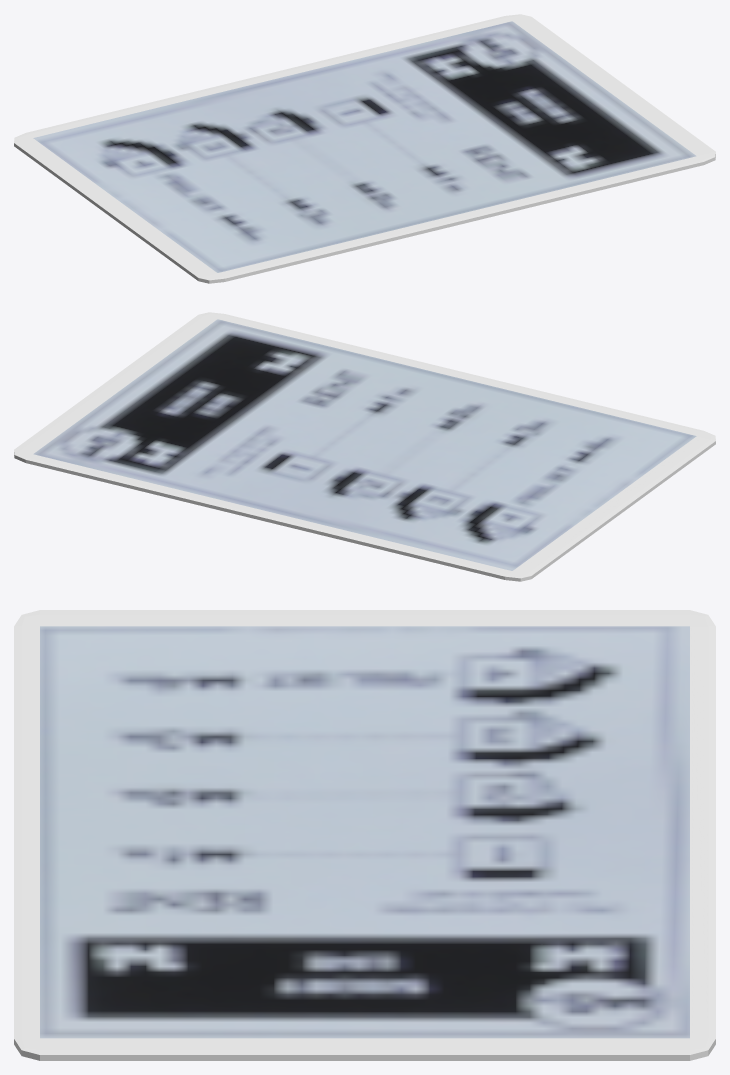
The model's file is shortline.glb.
The picture shows the model from 3 angles, top to bottom: view 1: azimuth 30°, elevation 25°; view 2: azimuth 150°, elevation 25°; view 3: azimuth 270°, elevation 25°; orthographic projection. The views are drawn at different scales.
Parts seen in each view (by area): view 1: Cube; view 2: Cube; view 3: Cube.
Part boxes in pixels (x1=…): Cube: x1=14, y1=14, x2=715, y2=283; Cube: x1=14, y1=312, x2=715, y2=581; Cube: x1=14, y1=610, x2=715, y2=1060.
Size of the model in its own units: 0.6 by 0.004 by 0.4.
Materials: 3 (2 with a texture image).
